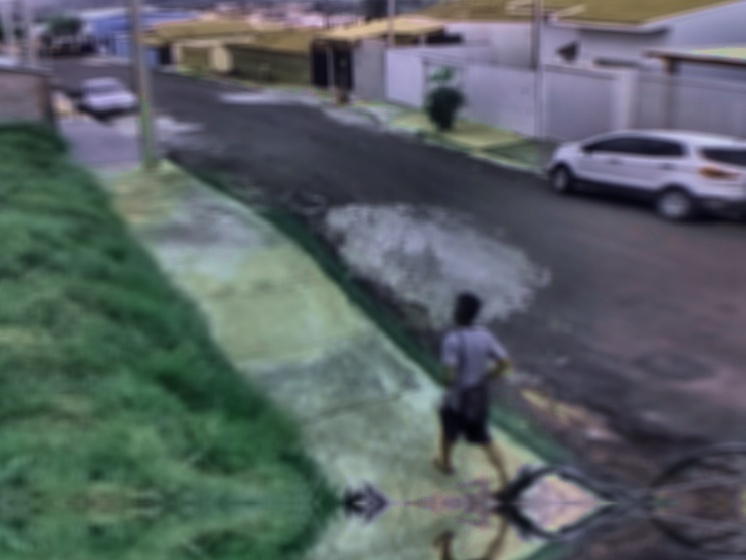person: (433, 291, 523, 560)
